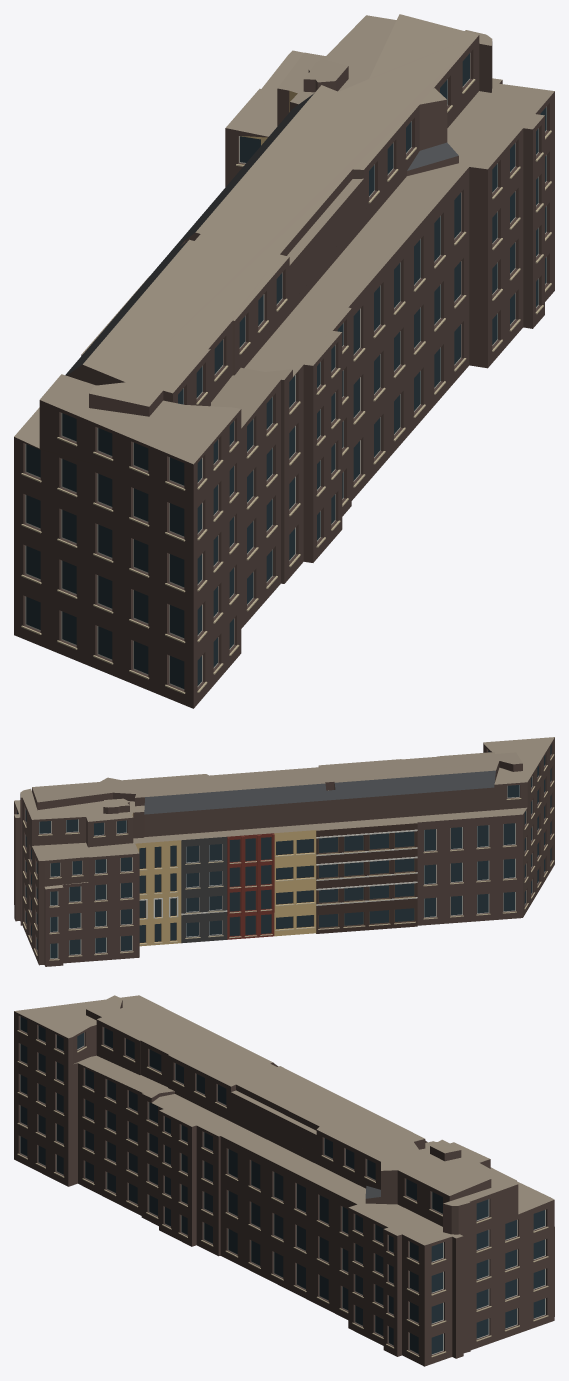
Rendered from recipe-large-narva-eiland-247037.glb.
3 views of the same model, one above another, from view 1: azimuth 30°, elevation 25°; view 2: azimuth 150°, elevation 25°; view 3: azimuth 270°, elevation 25° (orthographic). The views are drawn at different scales.
Parts seen in each view (by area): view 1: narva-eiland-247037; view 2: narva-eiland-247037; view 3: narva-eiland-247037.
Boxes of the visible parts, x1,y1,x2,y2 form: narva-eiland-247037: [14, 14, 554, 708]; narva-eiland-247037: [14, 737, 554, 966]; narva-eiland-247037: [14, 995, 554, 1366].
Size of the model in its own units: 51.72 by 17.07 by 52.63.
